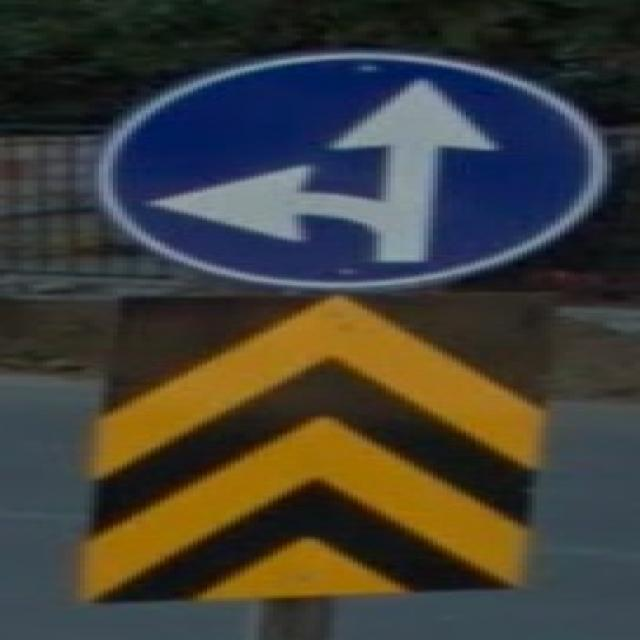Straight or Left: (83, 54, 606, 289)
